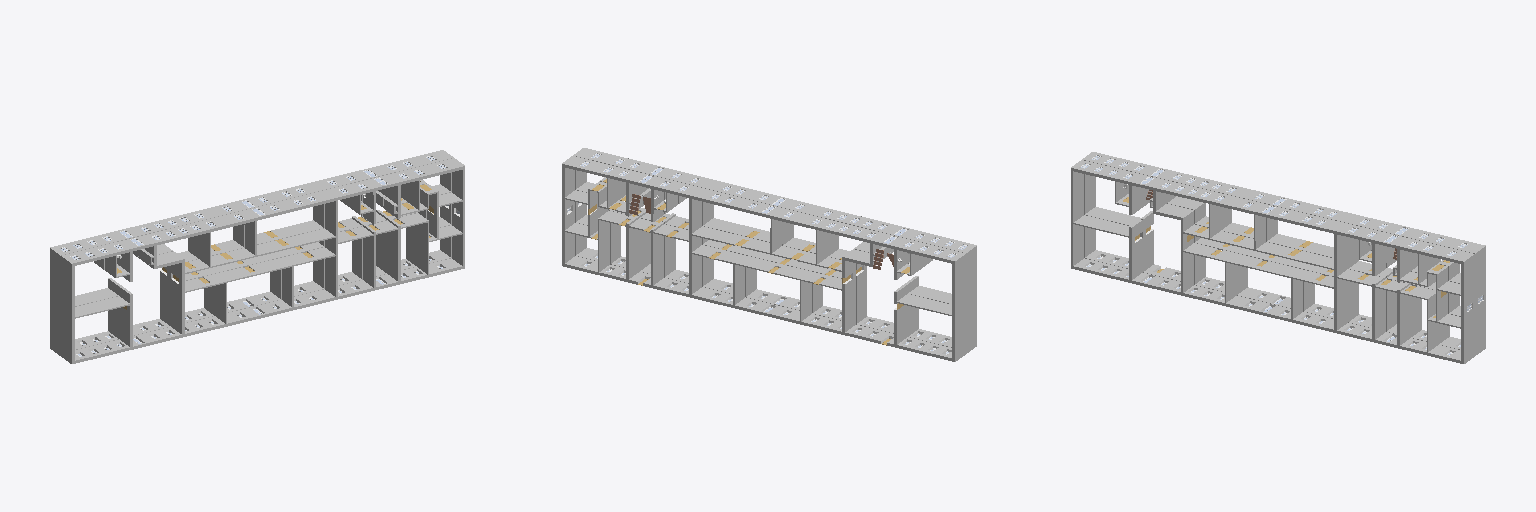
File: level_1_2_new.obj
3 renders of one model, left to right at view 1: azimuth 30°, elevation 25°; view 2: azimuth 150°, elevation 25°; view 3: azimuth 330°, elevation 25°, orthographic.
Visible parts, largest first — view 1: mesh_2, mesh_1, mesh_5, mesh_12, mesh_11; view 2: mesh_2, mesh_1, mesh_5, mesh_12, mesh_3, mesh_11; view 3: mesh_2, mesh_1, mesh_5, mesh_12, mesh_11.
Part boxes in pixels (bbox=[...]): mesh_2: bbox=[50, 150, 464, 363]; mesh_1: bbox=[61, 158, 464, 363]; mesh_5: bbox=[59, 156, 459, 356]; mesh_12: bbox=[117, 184, 433, 309]; mesh_11: bbox=[61, 157, 459, 356]; mesh_2: bbox=[562, 148, 976, 361]; mesh_1: bbox=[562, 156, 962, 361]; mesh_5: bbox=[567, 153, 966, 354]; mesh_12: bbox=[588, 179, 909, 345]; mesh_3: bbox=[567, 153, 951, 353]; mesh_11: bbox=[567, 154, 966, 353]; mesh_2: bbox=[1073, 152, 1485, 360]; mesh_1: bbox=[1071, 160, 1474, 363]; mesh_5: bbox=[1080, 155, 1482, 355]; mesh_12: bbox=[1124, 197, 1449, 317]; mesh_11: bbox=[1081, 156, 1482, 354].
Size of the model in its own units: 62.42 by 15.57 by 6.93.